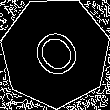O_SE: (23, 19, 88, 86)
